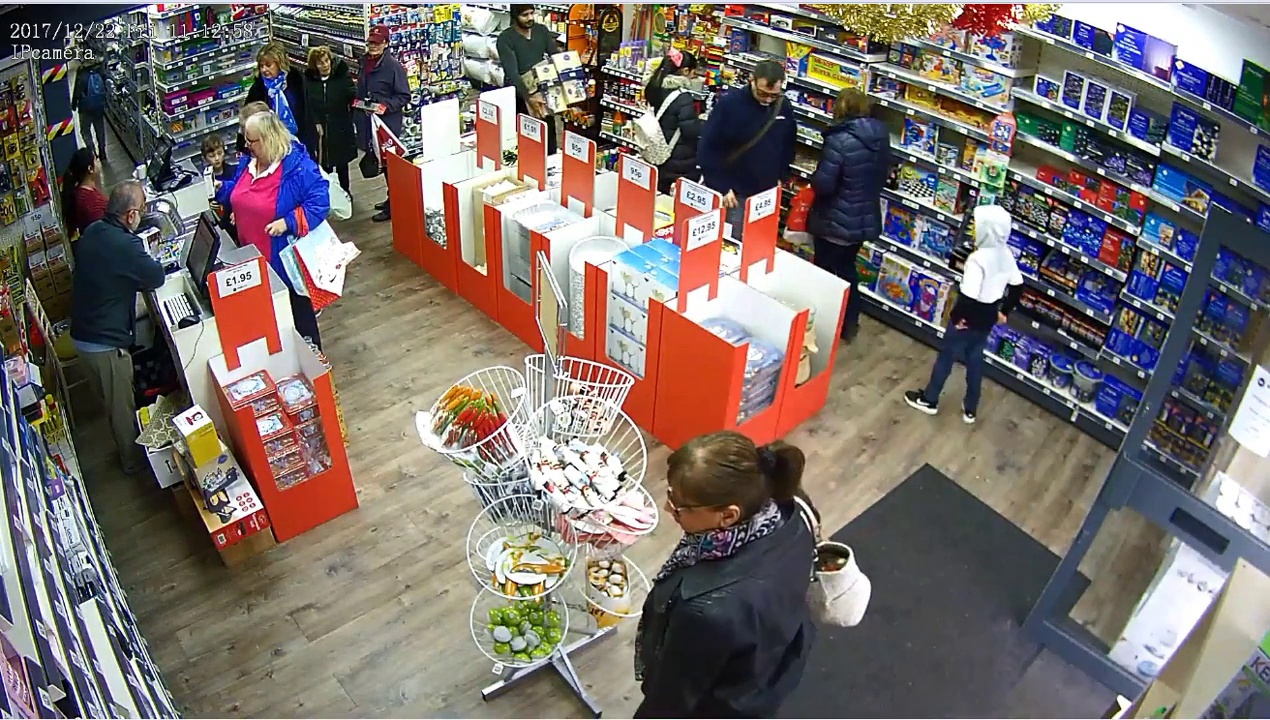face: (753, 74, 783, 111), (312, 48, 341, 75), (203, 143, 230, 170), (256, 59, 278, 82), (516, 5, 534, 32), (366, 35, 382, 58)
